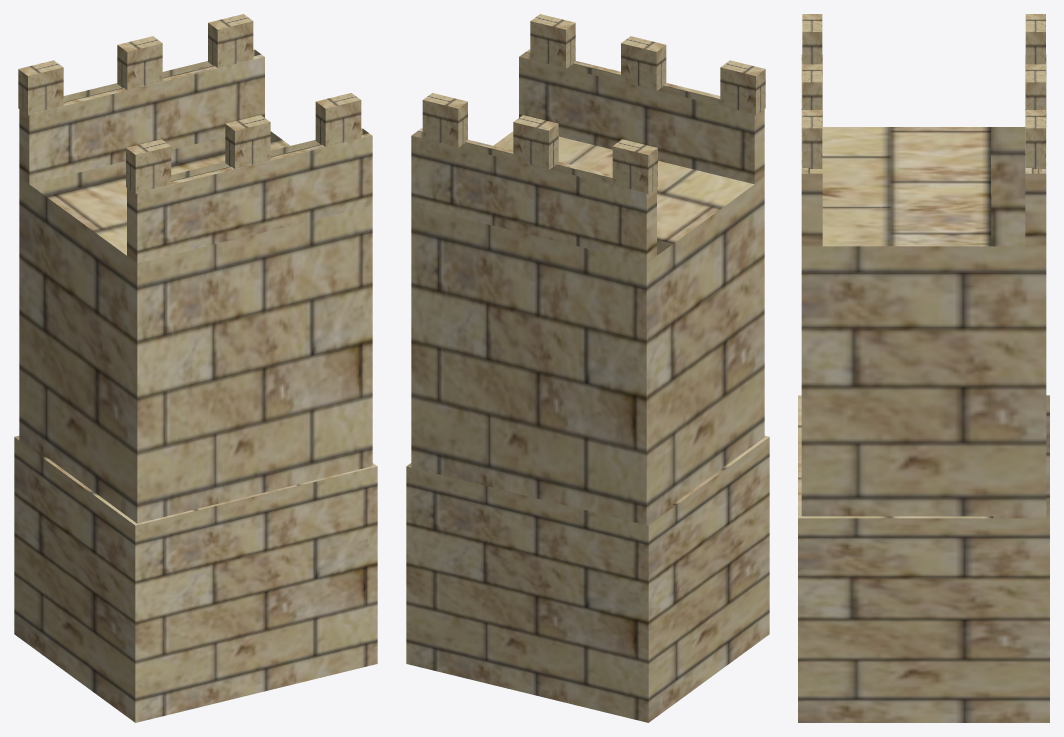
File: wall_short.dae
3 views of the same model, side by side, from view 1: azimuth 30°, elevation 25°; view 2: azimuth 150°, elevation 25°; view 3: azimuth 270°, elevation 25° (orthographic). The views are drawn at different scales.
Parts seen in each view (by area): view 1: wall_short; view 2: wall_short; view 3: wall_short.
Boxes of the visible parts, bbox=[...] form: wall_short: bbox=[14, 14, 377, 722]; wall_short: bbox=[406, 14, 769, 722]; wall_short: bbox=[798, 14, 1049, 722].
Size of the model in its own units: 9.82 by 8.52 by 21.93.
